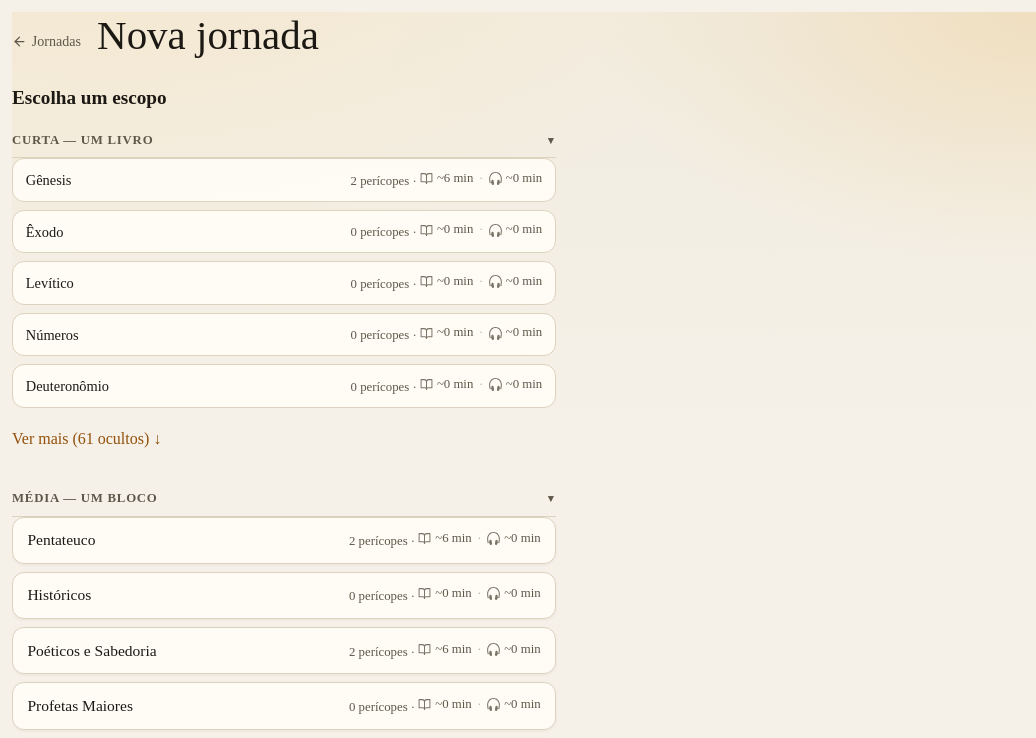
NovaJornada — catálogo (passo 1) › clicar em um escopo abre o passo 2 (confirmação)
Click the button with class "jornada-escopo" that starts with "Gênesis" at (49, 180), box [12,158,556,202]
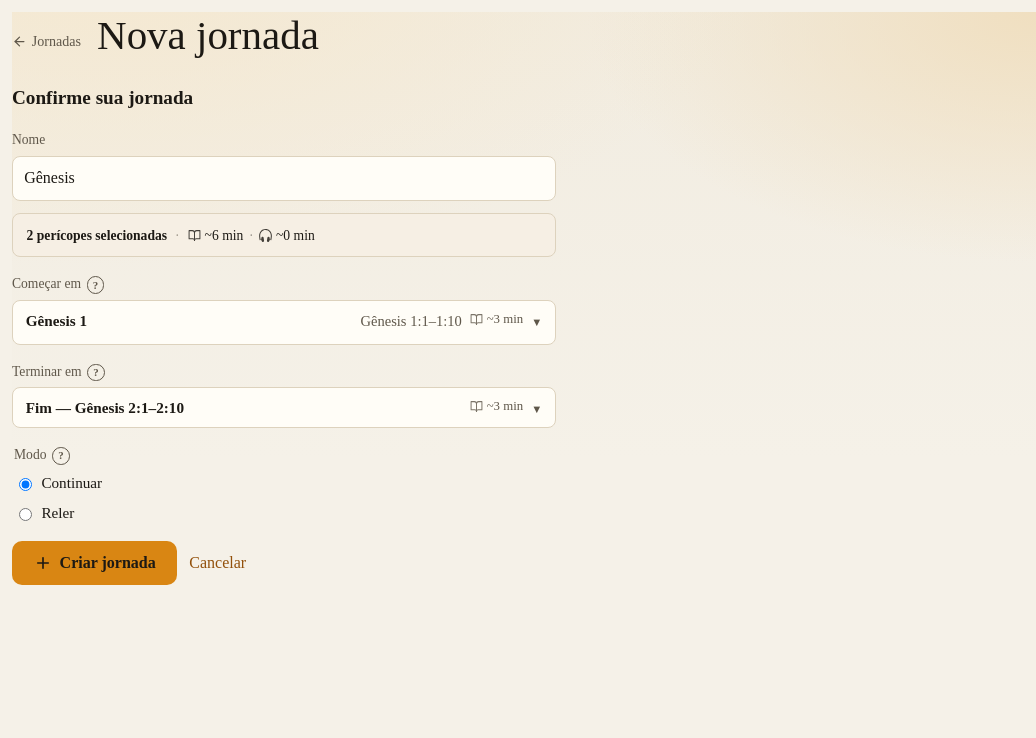
Expected: the text "Confirme sua jornada" is shown, [12,87,193,108]
